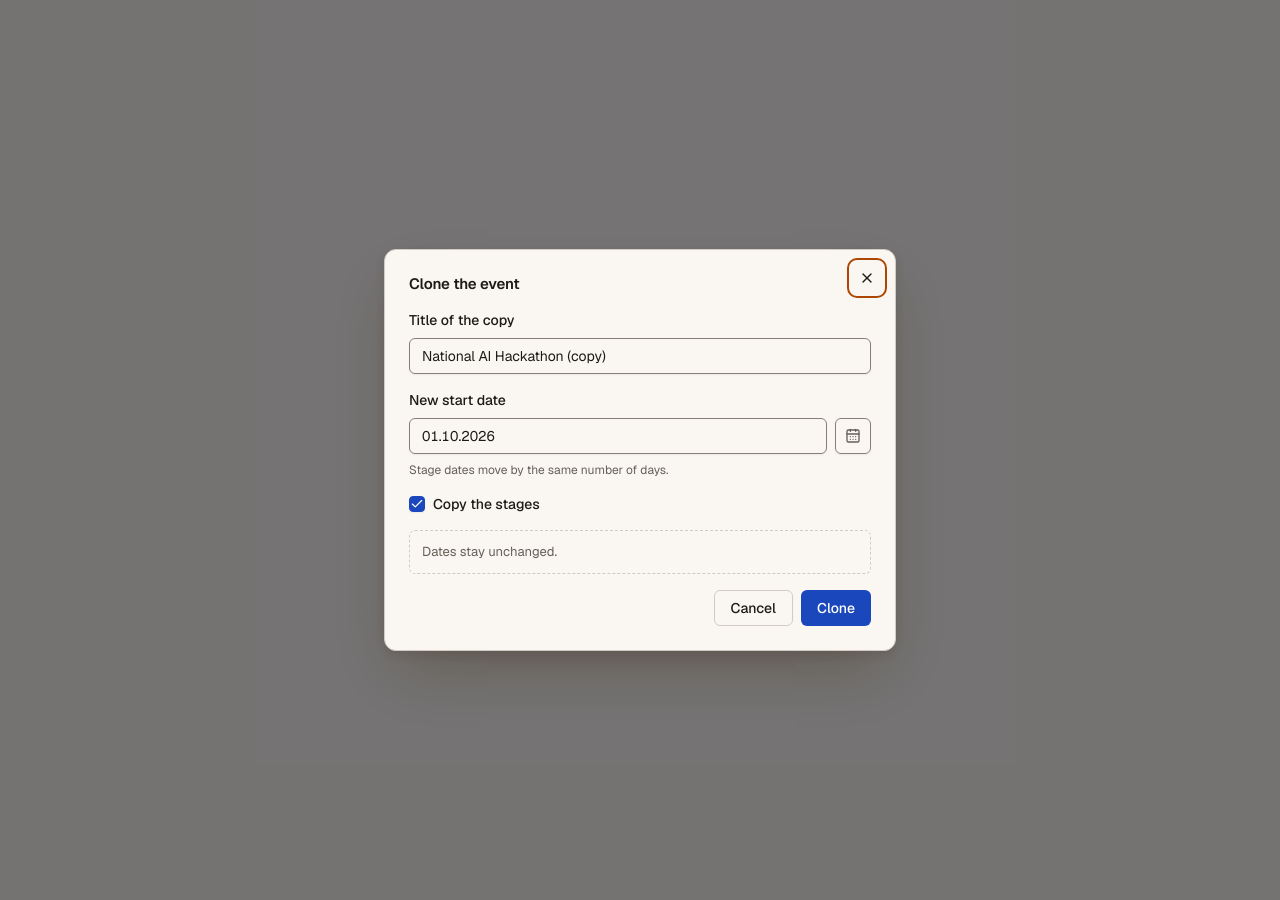
Test: CloneEventDialog › refuses to clone without a title
Clear the field labelled "Title of the copy". click: (640, 356)
box: top-left (409, 338), bottom-right (871, 374)
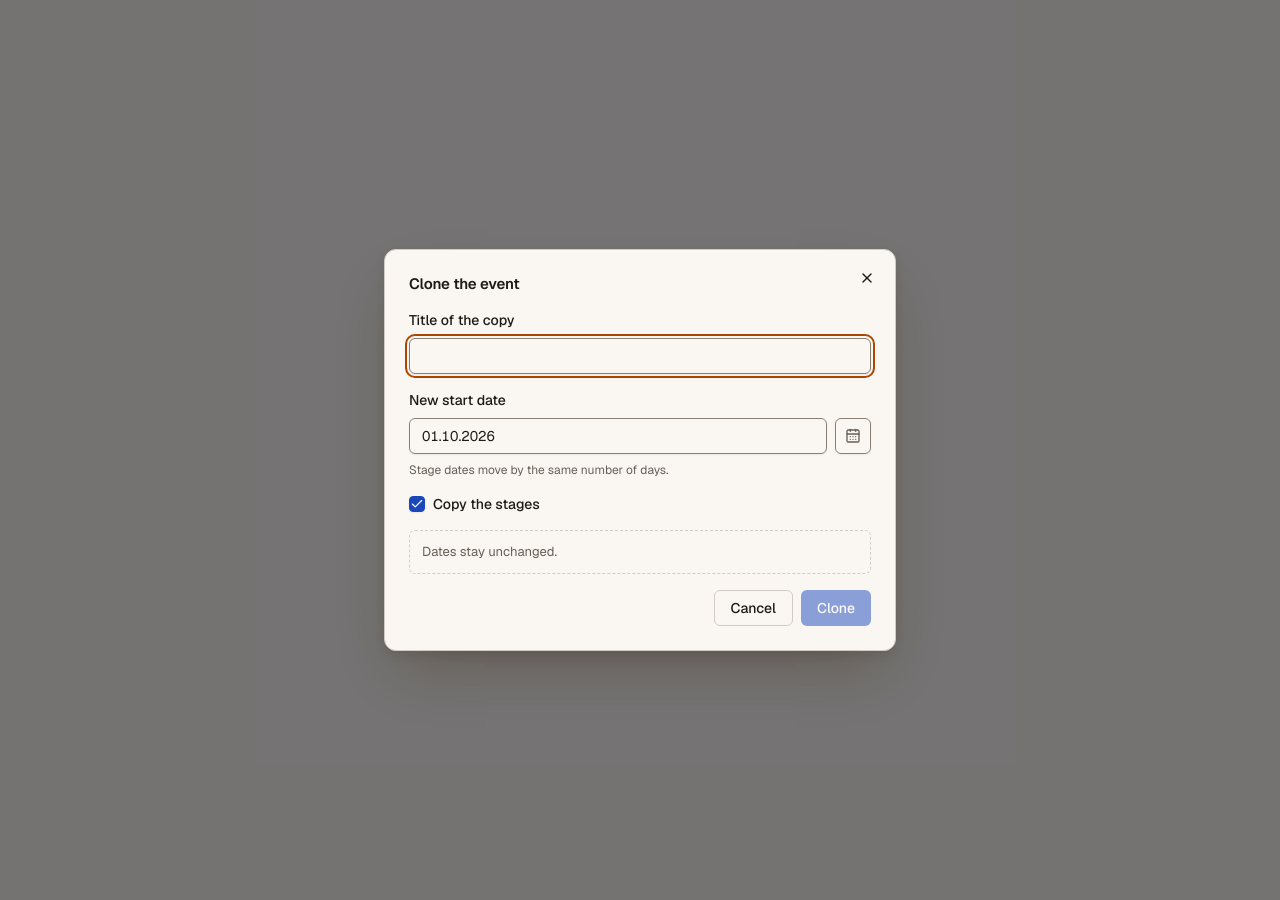
Result: the button "Clone" is disabled at top-left (801, 590), bottom-right (871, 626)
